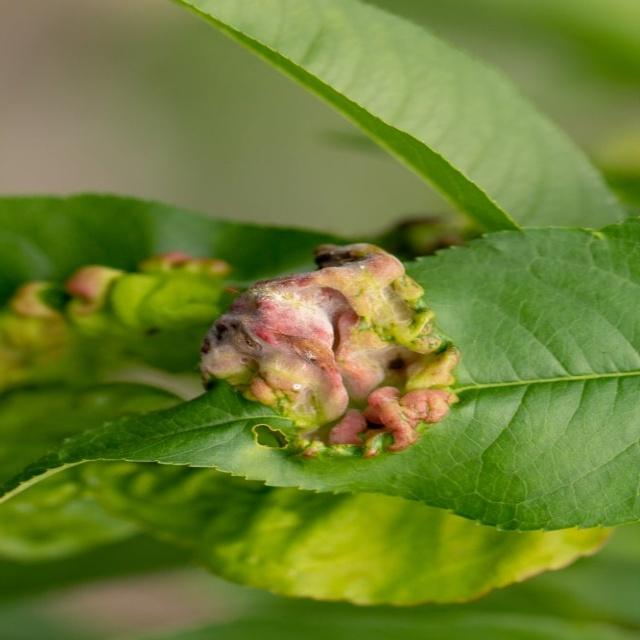leaf_curl: (8, 215, 497, 537)
